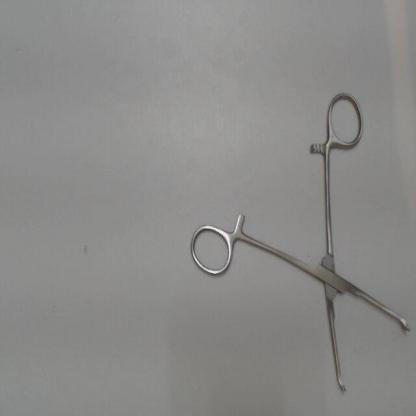Allis Tissue Forceps: (183, 84, 414, 405)
